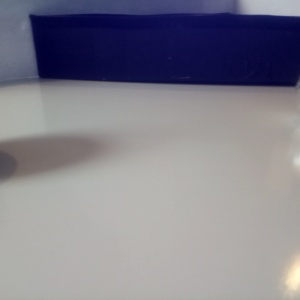zone: (29, 12, 300, 86)
